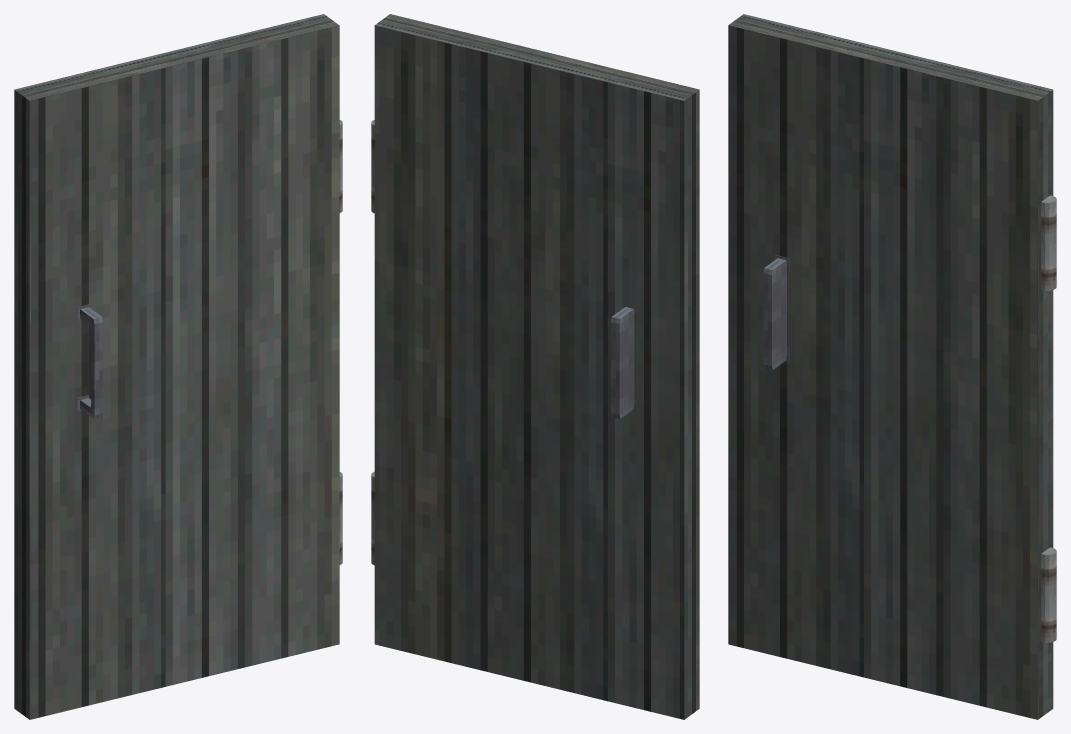
The model's file is v1 dver.fbx.
3 views of the same model, side by side, from view 1: azimuth 30°, elevation 25°; view 2: azimuth 150°, elevation 25°; view 3: azimuth 330°, elevation 25° (orthographic).
Parts seen in each view (by area): view 1: Cube.007; view 2: Cube.007; view 3: Cube.007.
Boxes of the visible parts, left/top/right/bottom form: Cube.007: left=14, top=14, right=342, bottom=719; Cube.007: left=371, top=14, right=699, bottom=719; Cube.007: left=728, top=14, right=1056, bottom=719.
Size of the model in its own units: 570 by 1055 by 138.
